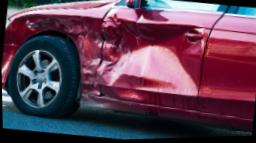Bumper: (1, 44, 21, 85)
Door: (96, 9, 220, 112)
Fender: (3, 3, 112, 98)
